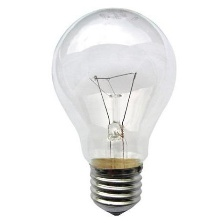light_bulb: (46, 3, 180, 218)
